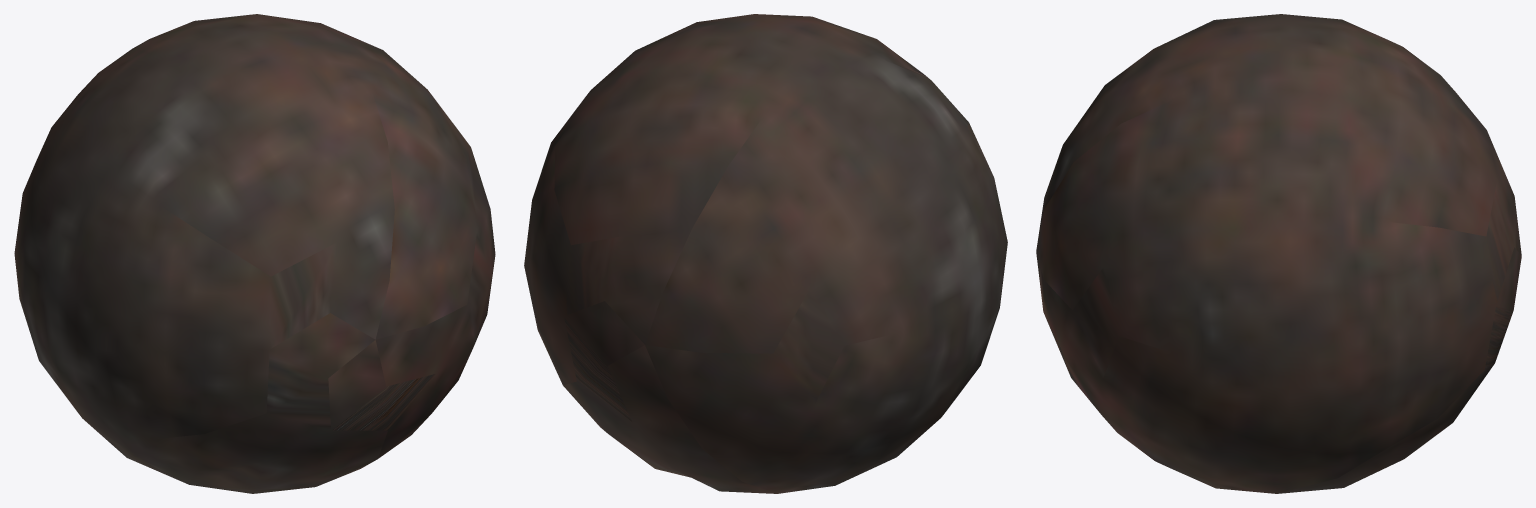
The model's file is cannon_ball.glb.
3 views of the same model, side by side, from view 1: azimuth 30°, elevation 25°; view 2: azimuth 150°, elevation 25°; view 3: azimuth 270°, elevation 25° (orthographic).
Parts seen in each view (by area): view 1: cannon_cannons_0.001; view 2: cannon_cannons_0.001; view 3: cannon_cannons_0.001.
Boxes of the visible parts, box(x1,y1,x2,y2) form: cannon_cannons_0.001: box(14, 14, 495, 493); cannon_cannons_0.001: box(524, 14, 1007, 493); cannon_cannons_0.001: box(1036, 14, 1521, 493).
Size of the model in its own units: 0.2337 by 0.2337 by 0.2339.
1 material, 1 textured.
